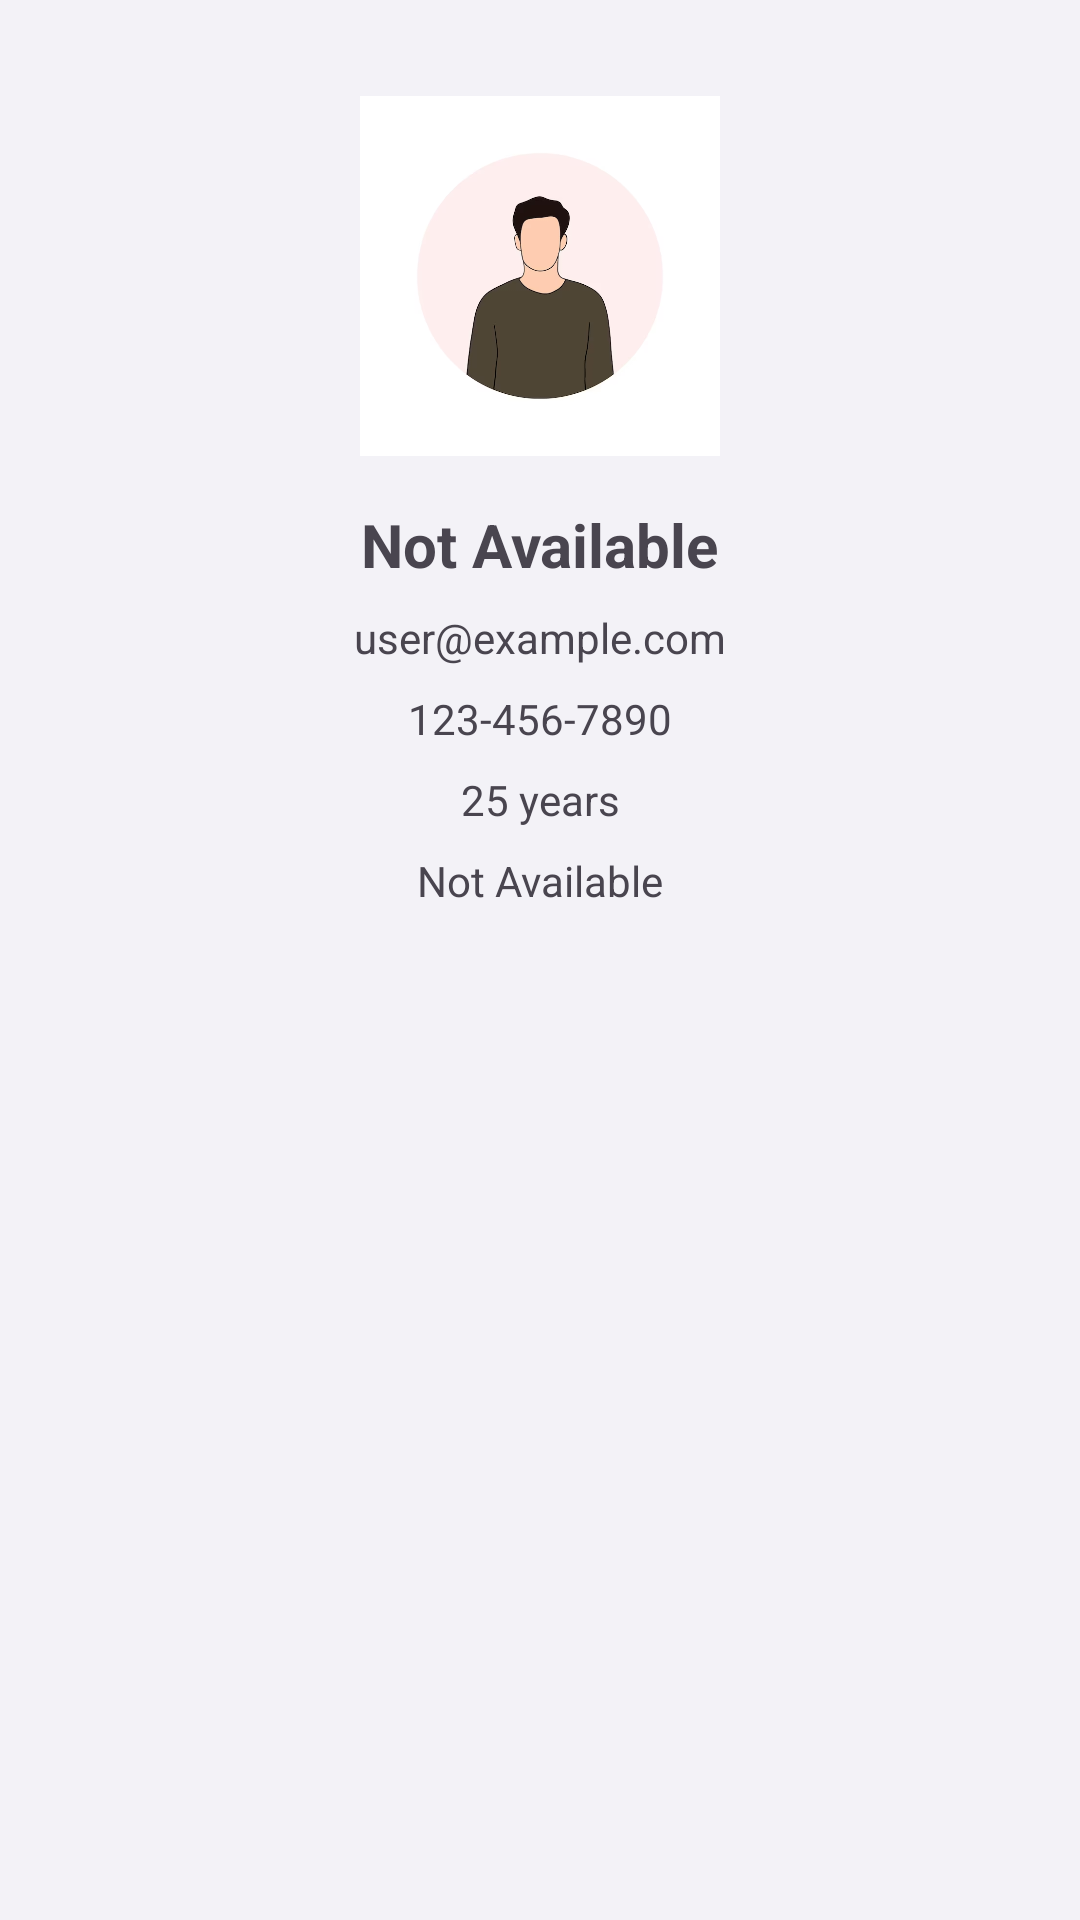

Where icons sit on this 1080×1920 app screen, as (x1, y1, x2, y2):
User's Profile Image: (466, 196, 614, 399)
